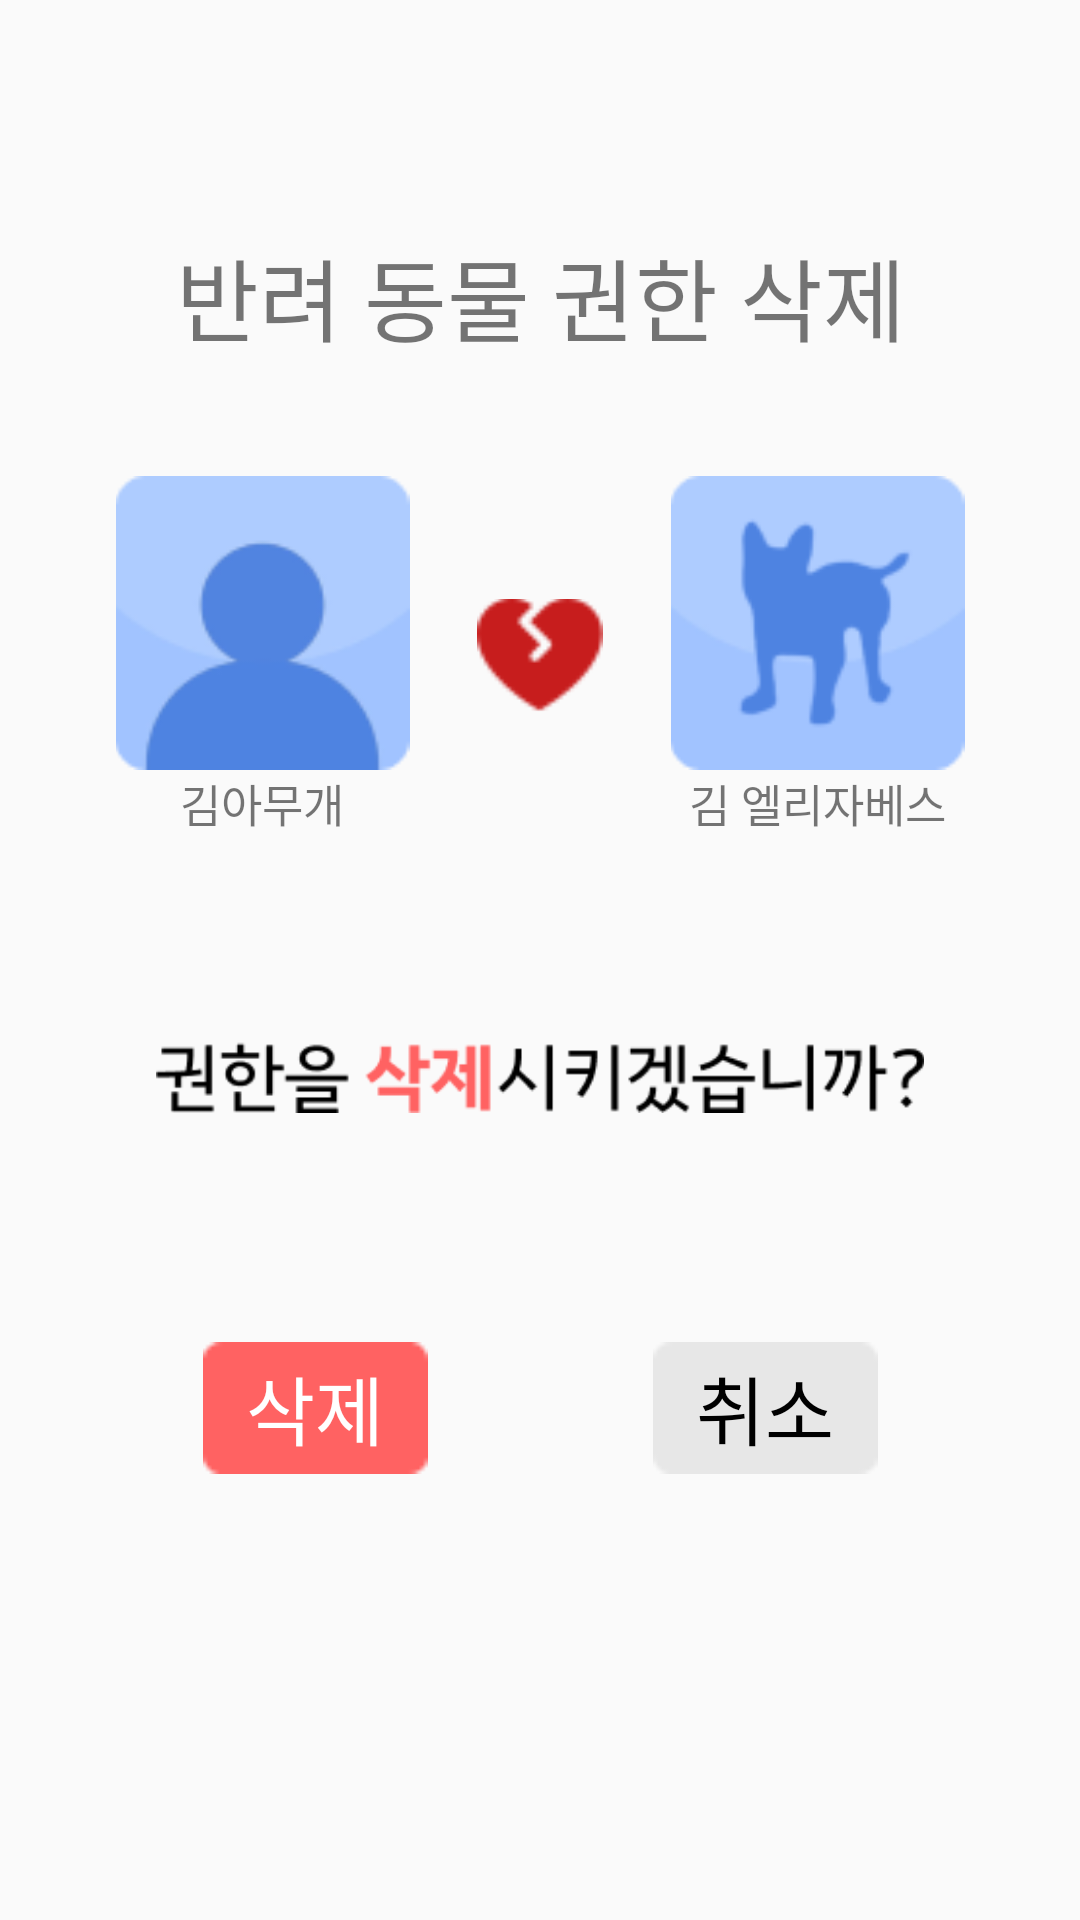

Screen size 1080w x 1920h. Icon name, then its box in pixels as bbox=[x1, y1, x2, y2]:
broken heart emoji: bbox=[477, 599, 603, 711]
pet: bbox=[671, 476, 965, 770]
